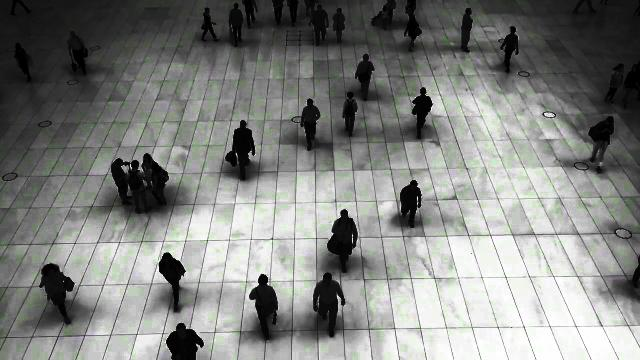berjalan: (38, 262, 82, 328), (150, 248, 190, 314), (245, 270, 282, 338), (311, 272, 345, 336), (586, 111, 618, 175), (228, 112, 256, 180), (332, 206, 358, 272), (398, 177, 424, 229), (298, 96, 322, 152), (65, 31, 91, 77), (500, 24, 522, 77), (199, 5, 221, 46), (310, 4, 328, 47), (333, 7, 349, 41)
